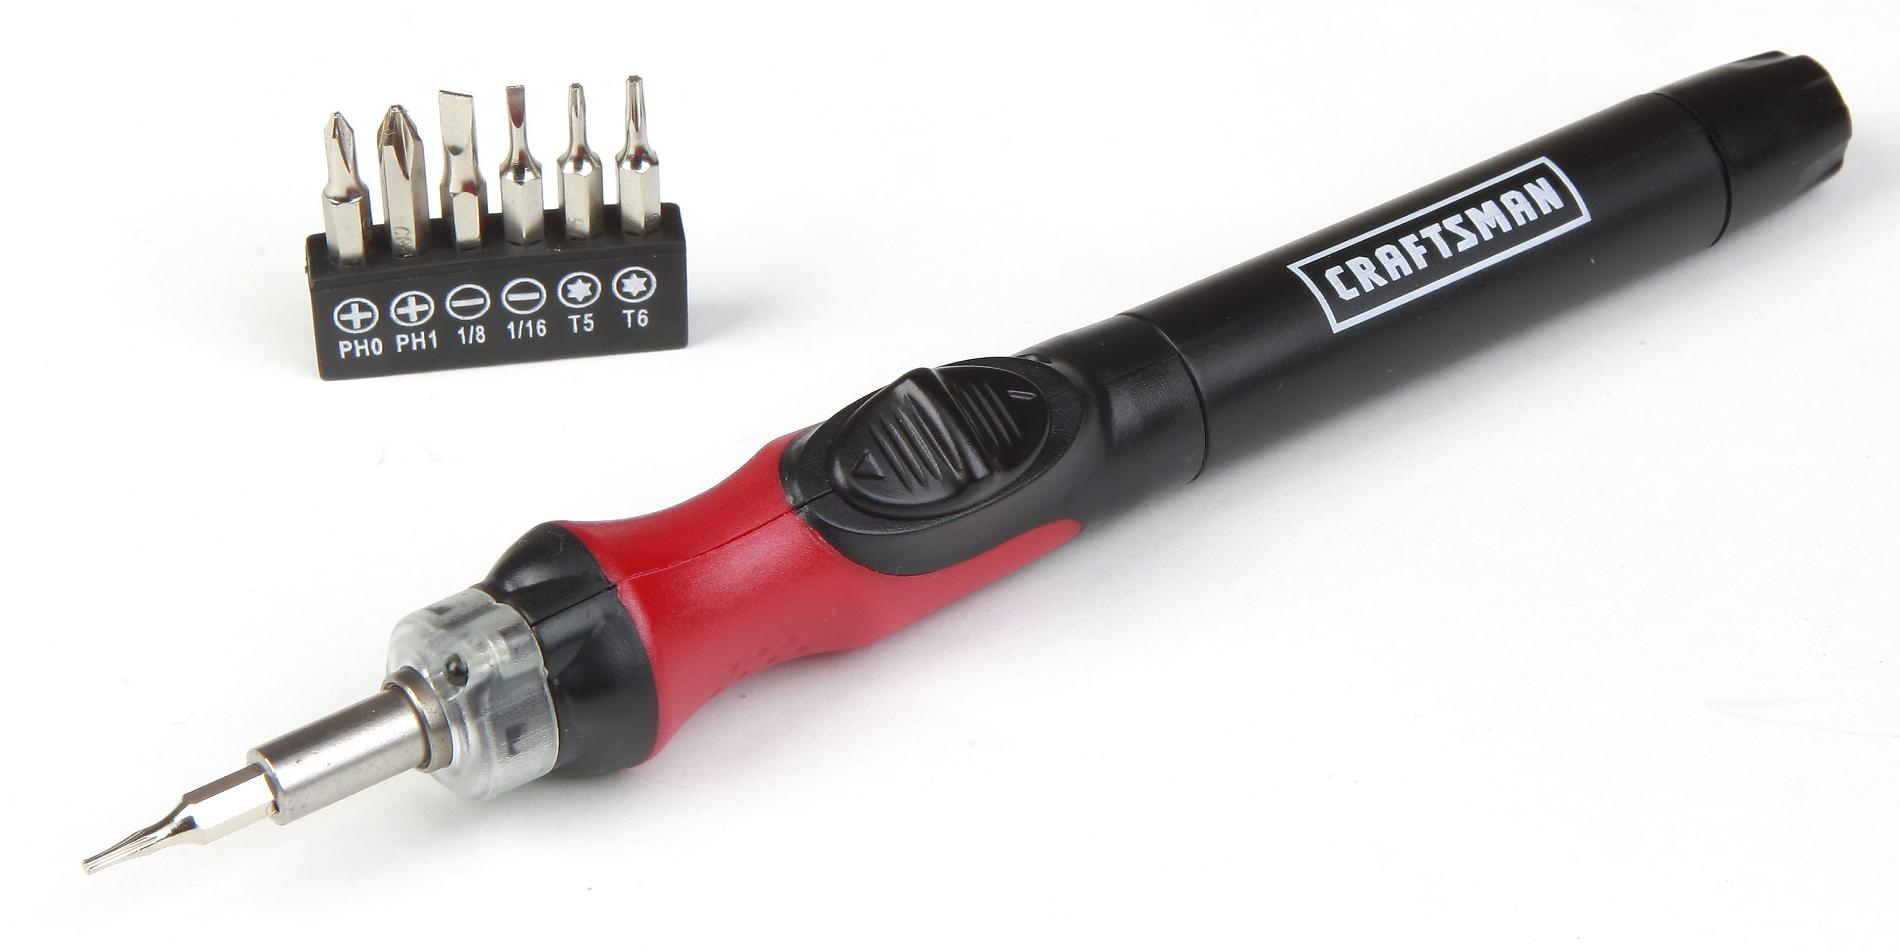screwdriver: (78, 42, 1854, 882)
